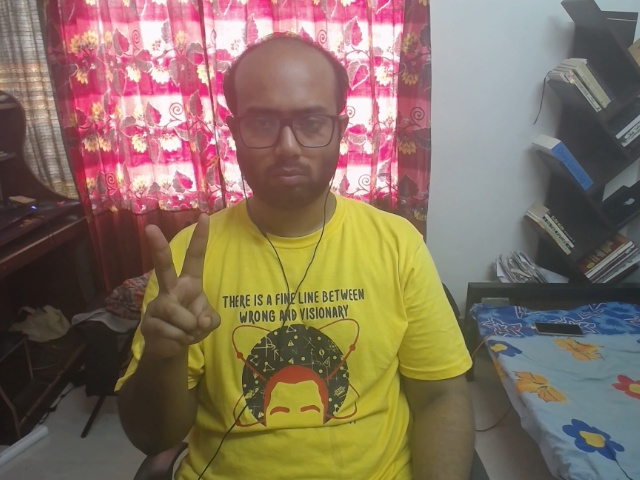two: (109, 207, 259, 350)
